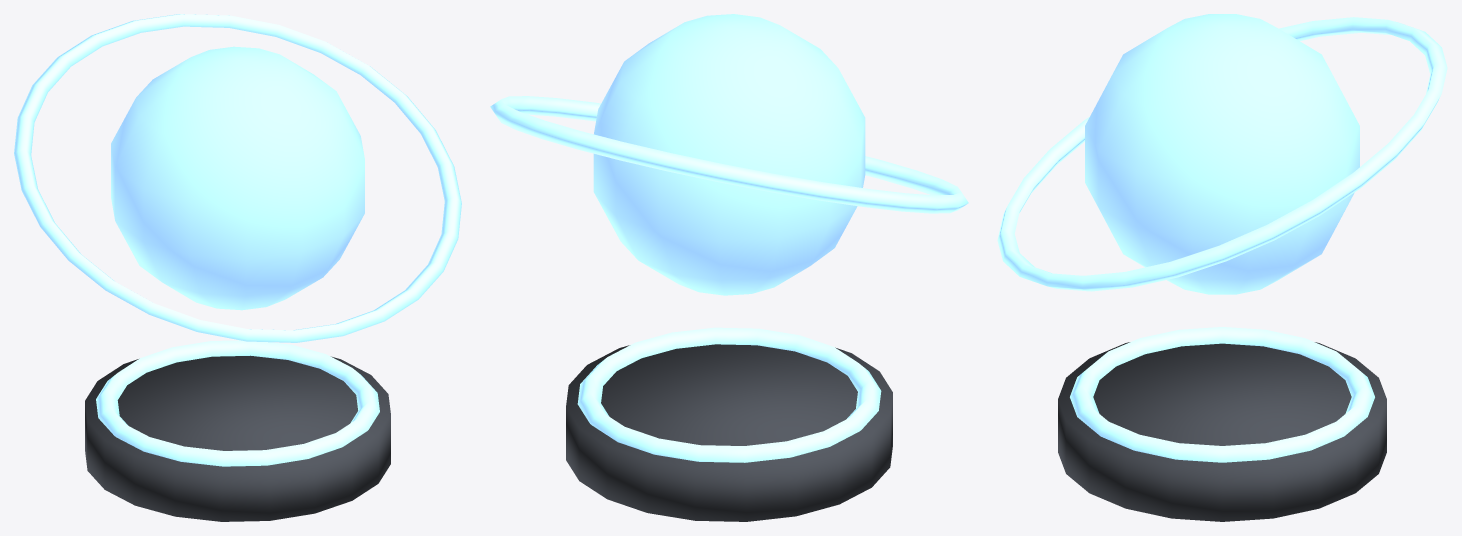
Rendered from holo_cube_planet_proj.glb.
3 renders of one model, left to right at view 1: azimuth 30°, elevation 25°; view 2: azimuth 150°, elevation 25°; view 3: azimuth 270°, elevation 25°, orthographic. The views are drawn at different scales.
Visible parts, largest first — view 1: GD_holo_cube_planet_proj__m2, GD_holo_cube_planet_proj__m0, GD_holo_cube_planet_proj__m1; view 2: GD_holo_cube_planet_proj__m2, GD_holo_cube_planet_proj__m0, GD_holo_cube_planet_proj__m1; view 3: GD_holo_cube_planet_proj__m2, GD_holo_cube_planet_proj__m0, GD_holo_cube_planet_proj__m1.
Boxes of the visible parts, x1,y1,x2,y2 form: GD_holo_cube_planet_proj__m2: (111,46,364,310); GD_holo_cube_planet_proj__m0: (85,355,390,521); GD_holo_cube_planet_proj__m1: (14,14,461,466); GD_holo_cube_planet_proj__m2: (593,14,865,295); GD_holo_cube_planet_proj__m0: (566,344,892,521); GD_holo_cube_planet_proj__m1: (490,96,968,462); GD_holo_cube_planet_proj__m2: (1085,14,1359,294); GD_holo_cube_planet_proj__m0: (1058,342,1386,521); GD_holo_cube_planet_proj__m1: (997,17,1447,462).
Bounding box in the file's own units: 0.208 × 0.2 × 0.1916.
